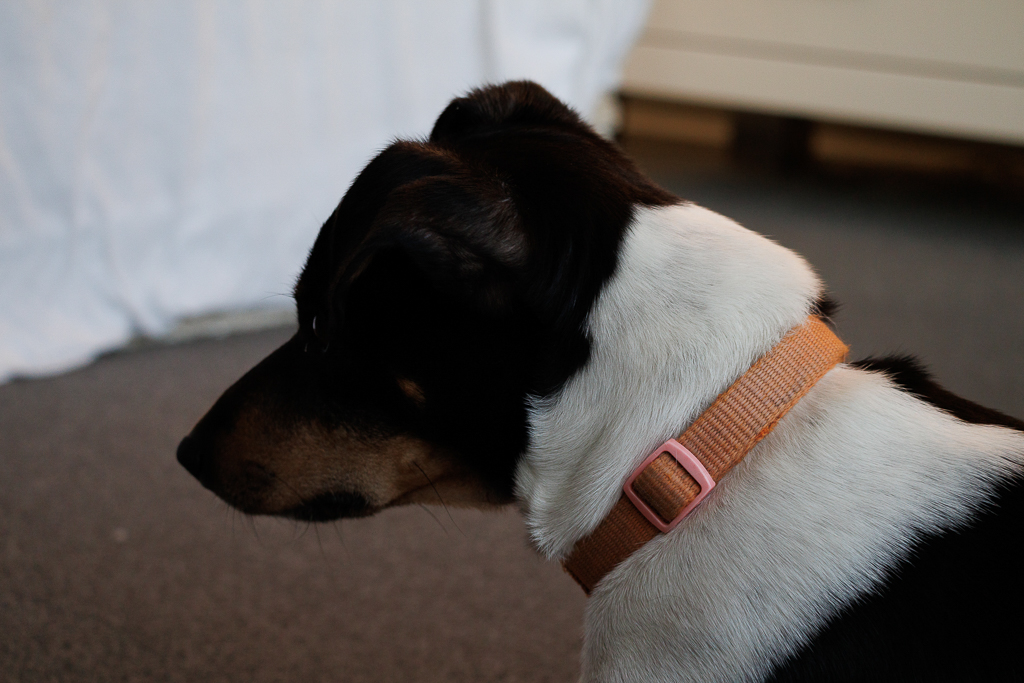Dog: (165, 63, 1024, 683)
